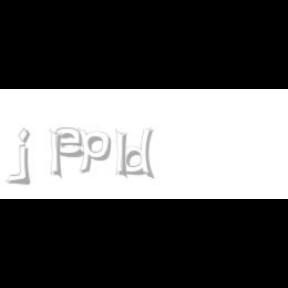I: (50, 128, 62, 180), (116, 128, 128, 180)
d: (122, 128, 158, 180)
e: (56, 128, 88, 158)
j: (16, 128, 44, 186)
p: (78, 128, 114, 174)
